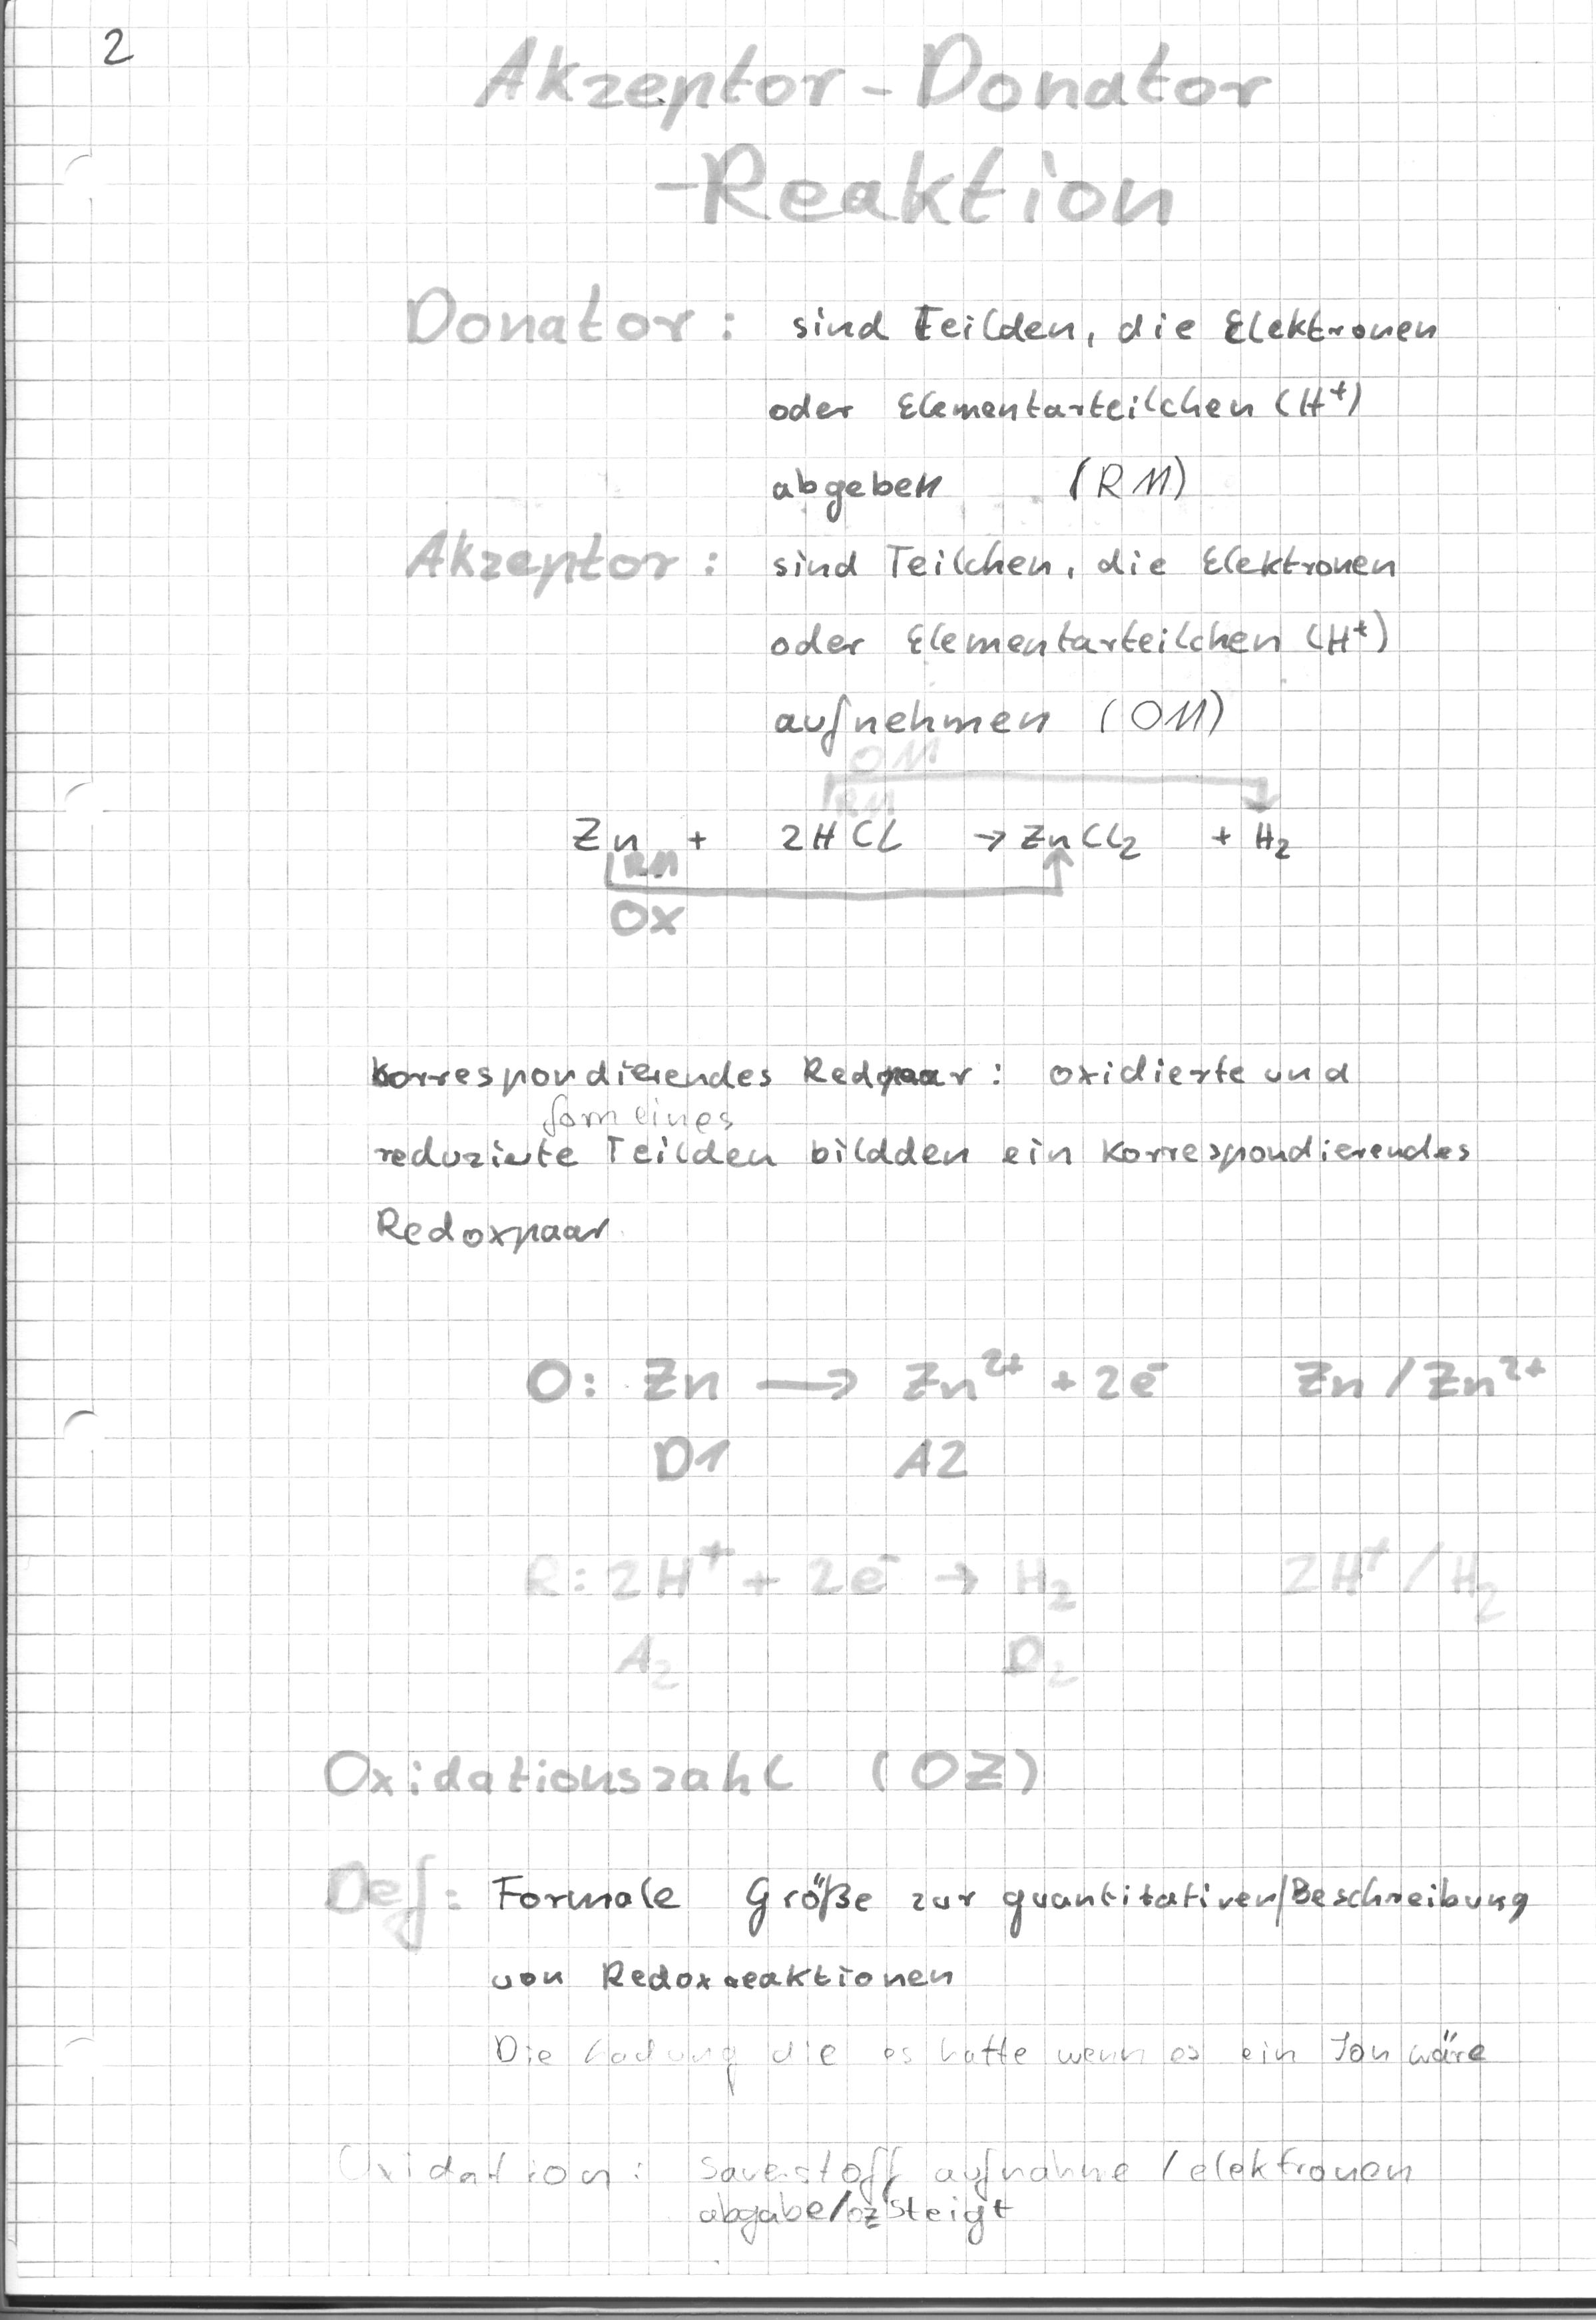word: (362, 1037, 1489, 1265), (477, 1857, 1531, 2008), (758, 294, 1446, 526), (761, 534, 1400, 763), (559, 795, 1317, 885)
